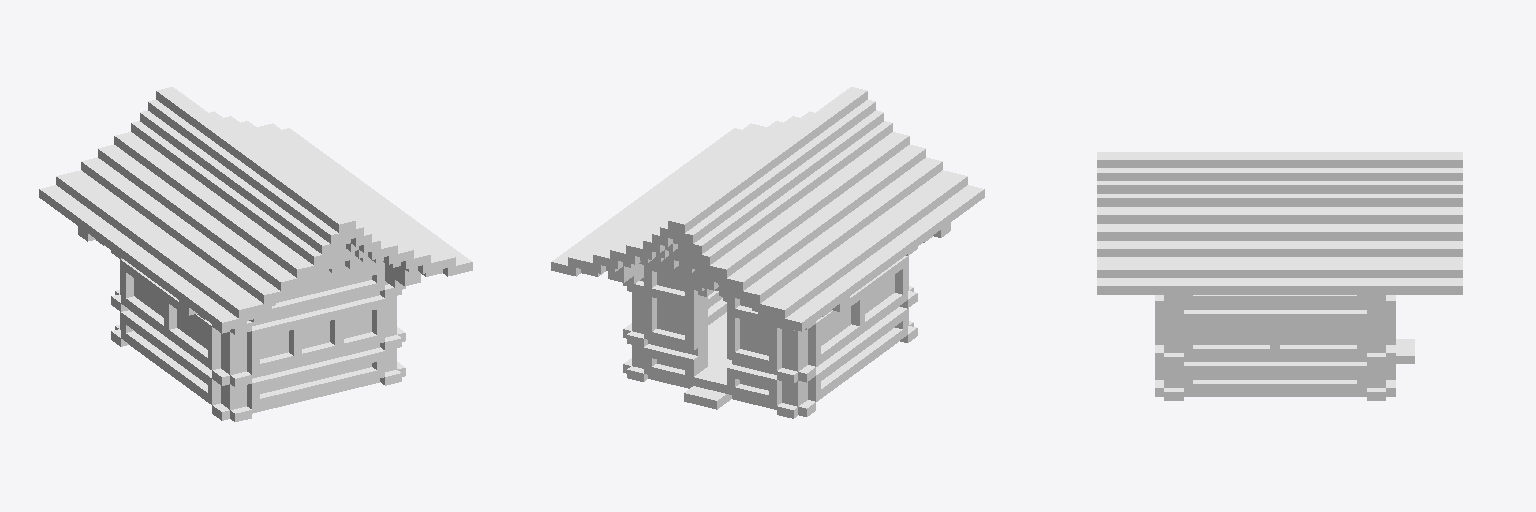
The model's file is Haus2.obj.
The picture shows the model from 3 angles: view 1: azimuth 30°, elevation 25°; view 2: azimuth 150°, elevation 25°; view 3: azimuth 270°, elevation 25°; orthographic projection.
Bounding box in the file's own units: 30 × 23 × 38.